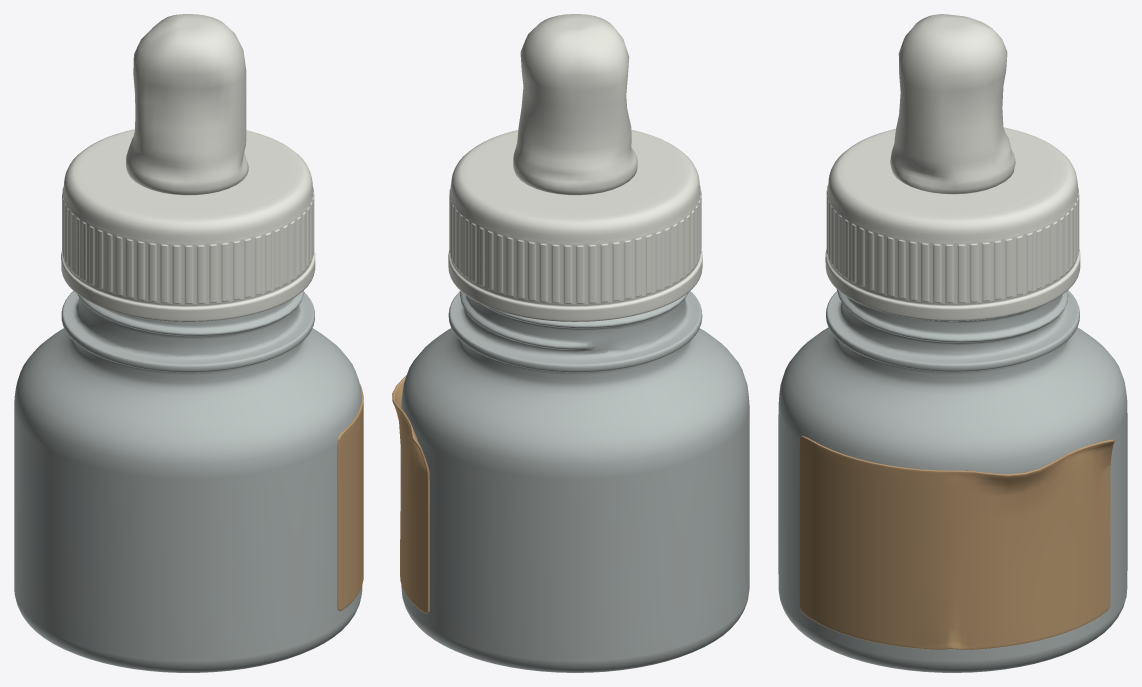
The model's file is paint_container_bottle_yellow_a03.glb.
3 views of the same model, side by side, from view 1: azimuth 30°, elevation 25°; view 2: azimuth 150°, elevation 25°; view 3: azimuth 270°, elevation 25° (orthographic).
Size of the model in its own units: 0.0512 by 0.0923 by 0.0502.
